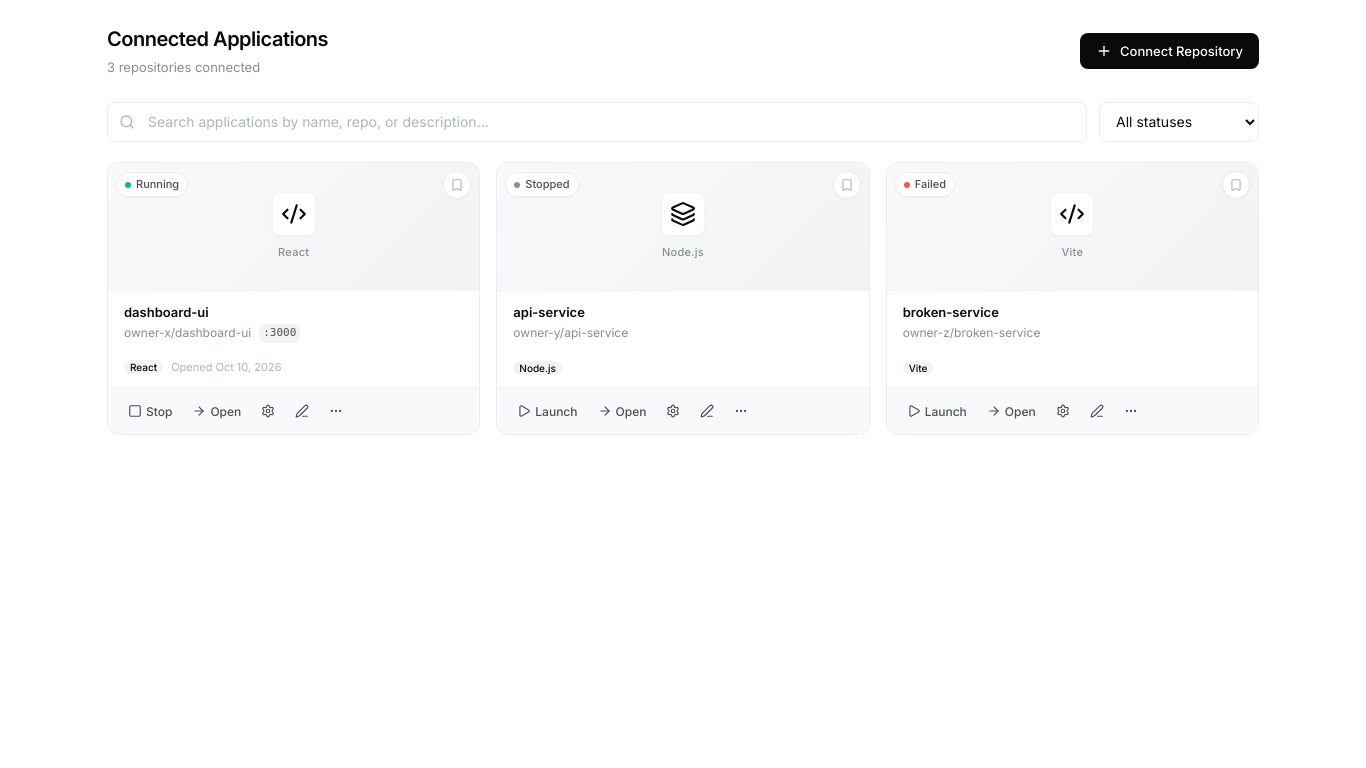
Test: Connected Apps Grid, Full-Screen, and Customization › 3. Edit Connected App Name › opens EditAppModal when edit button is clicked
The width and height of the screenshot is (1366, 768).
Click the button named "Edit dashboard-ui" at (302, 411), box [287,396,317,426]
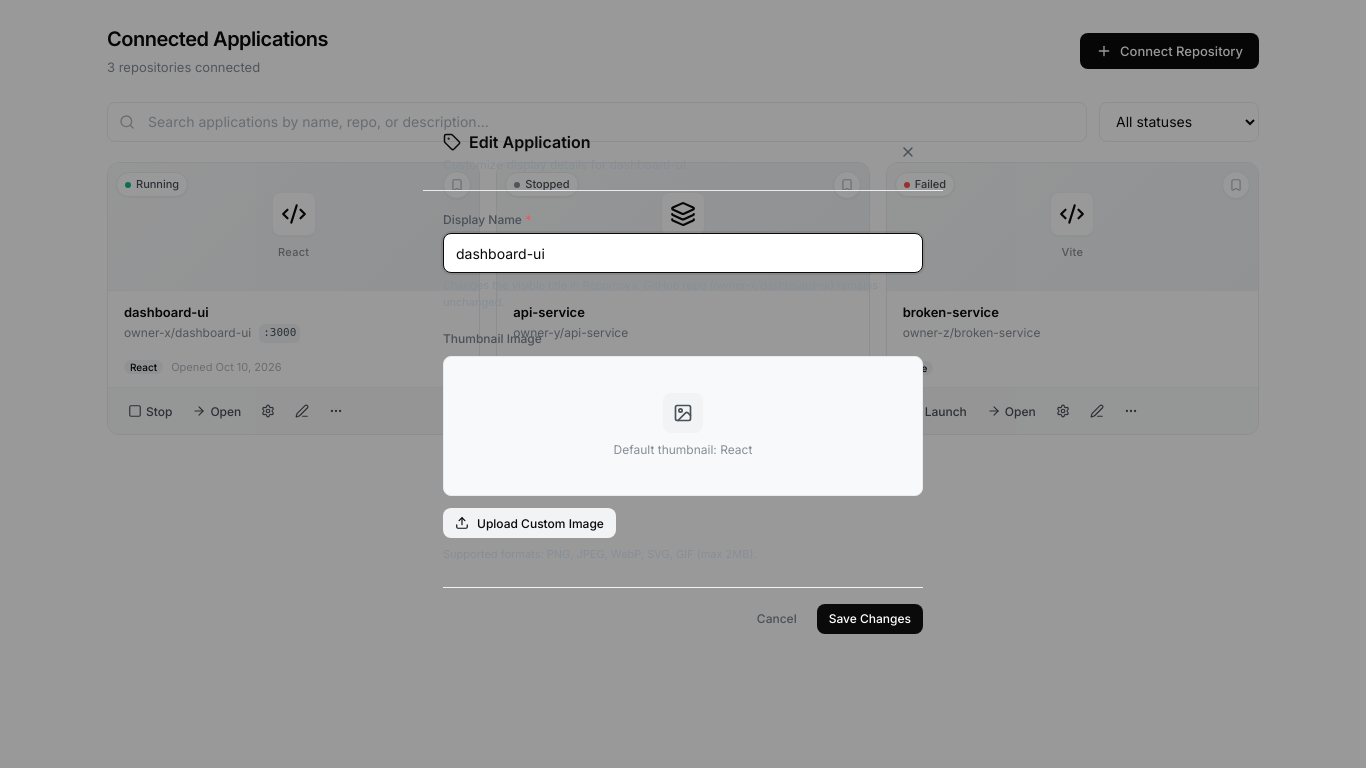
Check: the heading "Edit Application" is shown, box [443,132,591,152]
Check: the field labelled "Display Name *" holds "dashboard-ui", box [443,233,923,273]
